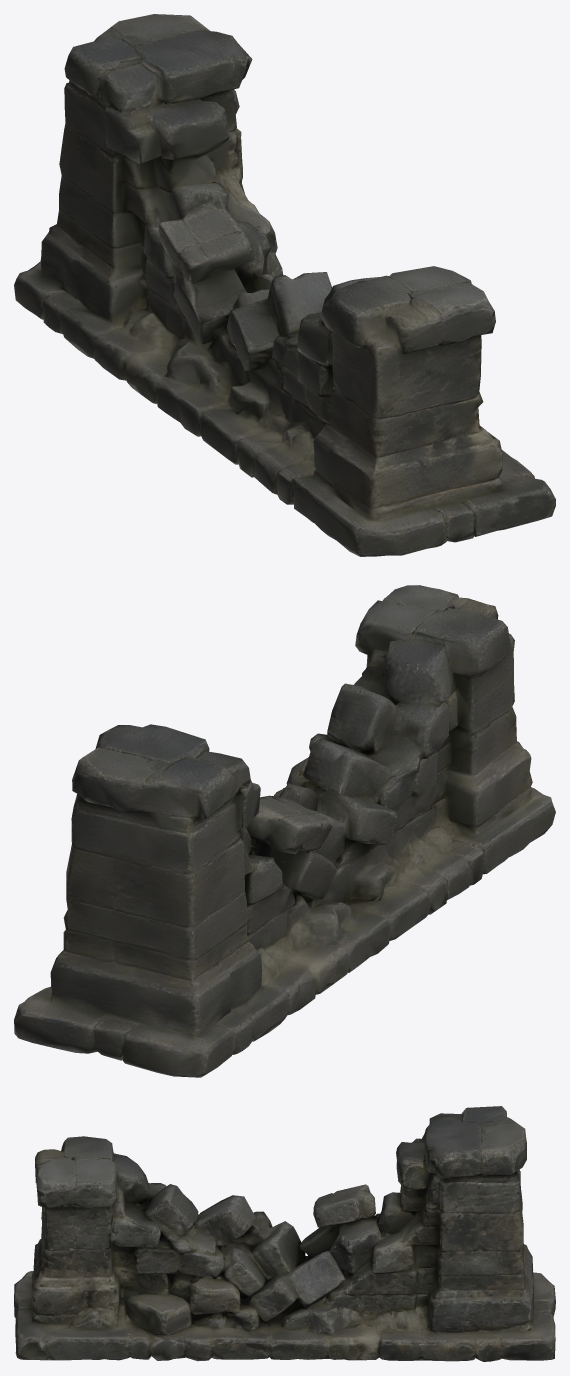
File: masonry-barricade.glb
3 renders of one model, top to bottom at view 1: azimuth 30°, elevation 25°; view 2: azimuth 150°, elevation 25°; view 3: azimuth 270°, elevation 25°, orthographic. The views are drawn at different scales.
Parts seen in each view (by area): view 1: tripo_node_fc071b30-27c1-4a2b-a0ee-2be70571c509; view 2: tripo_node_fc071b30-27c1-4a2b-a0ee-2be70571c509; view 3: tripo_node_fc071b30-27c1-4a2b-a0ee-2be70571c509.
Boxes of the visible parts, left/top/right/bottom form: tripo_node_fc071b30-27c1-4a2b-a0ee-2be70571c509: left=14, top=14, right=555, bottom=556; tripo_node_fc071b30-27c1-4a2b-a0ee-2be70571c509: left=14, top=585, right=555, bottom=1077; tripo_node_fc071b30-27c1-4a2b-a0ee-2be70571c509: left=14, top=1106, right=555, bottom=1361.
Size of the model in its own units: 0.3077 by 0.4069 by 1.
Materials: 1 (1 with a texture image).
